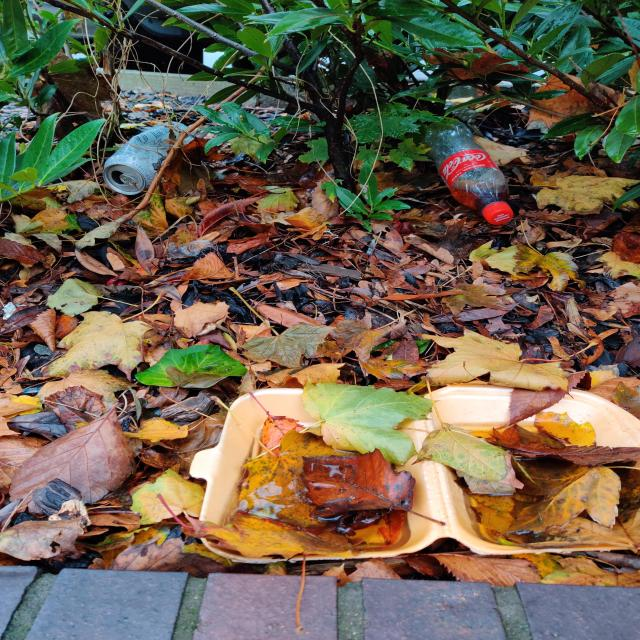litter: (90, 117, 503, 226)
